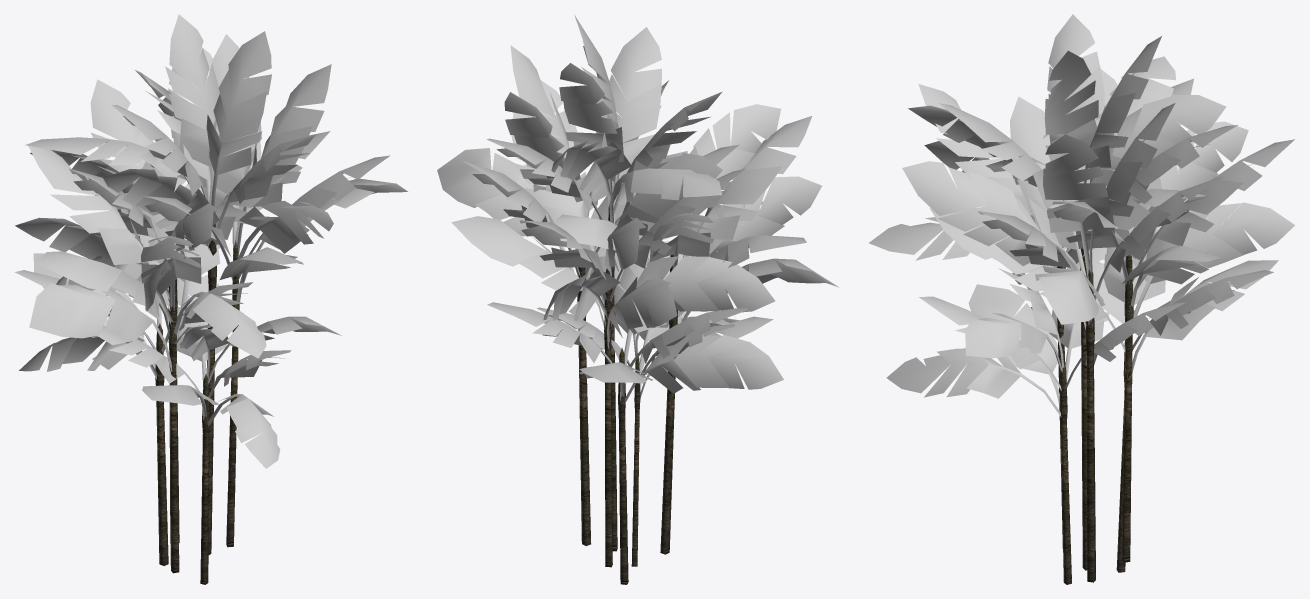
File: zhiwu08.fbx
3 views of the same model, side by side, from view 1: azimuth 30°, elevation 25°; view 2: azimuth 150°, elevation 25°; view 3: azimuth 270°, elevation 25° (orthographic). The views are drawn at different scales.
Parts seen in each view (by area): view 1: zhiwu08; view 2: zhiwu08; view 3: zhiwu08.
Part boxes in pixels (x1,y1,x2,y2): zhiwu08: (14, 14, 407, 584); zhiwu08: (437, 14, 838, 584); zhiwu08: (868, 14, 1294, 584).
Bounding box in the file's own units: 31.43 × 41.24 × 28.32.
